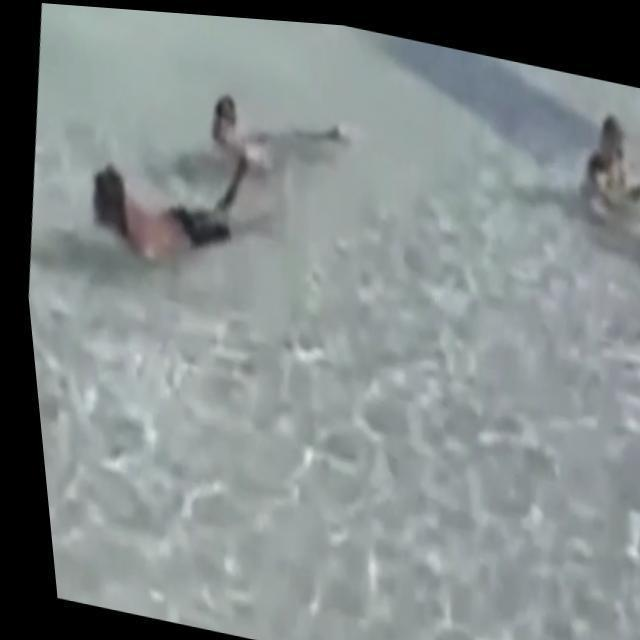swimming: (68, 148, 277, 260), (187, 77, 369, 172), (535, 100, 640, 244)
